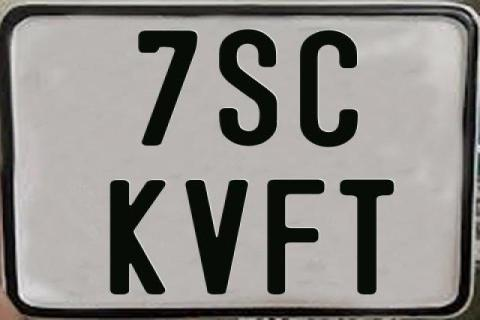0: (135, 29, 195, 145)
C: (300, 31, 364, 150)
F: (265, 177, 329, 293)
K: (107, 180, 164, 298)
S: (218, 28, 279, 146)
T: (337, 179, 396, 295)
V: (182, 180, 250, 295)
